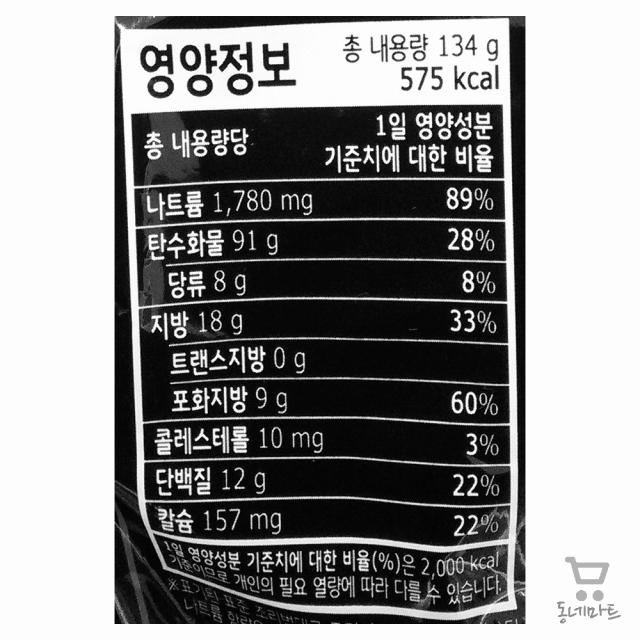Nutrition Label: (115, 8, 529, 630)
